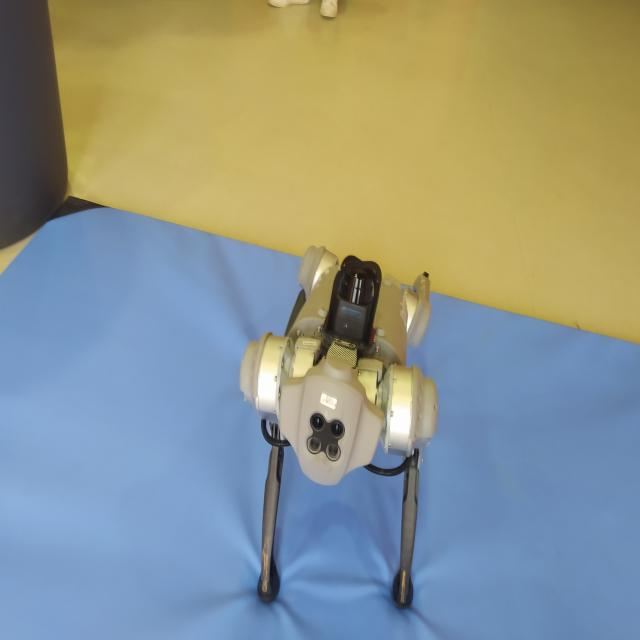unitree-go1-robot: (234, 222, 446, 622)
